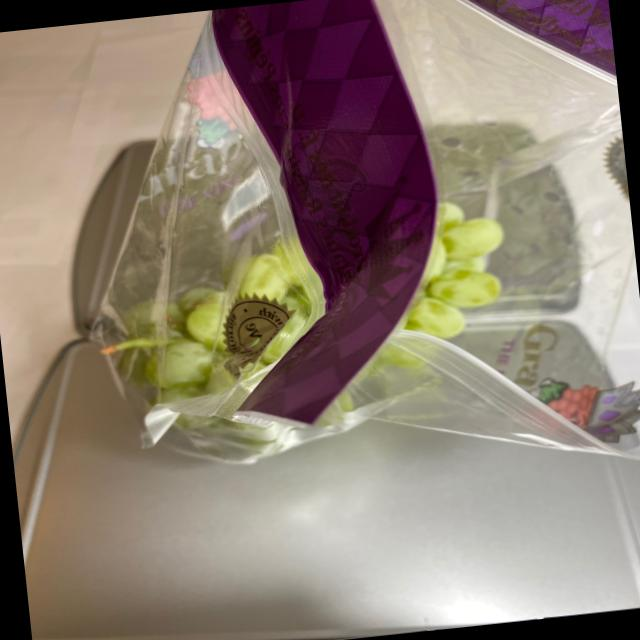grapes: (115, 180, 543, 422)
